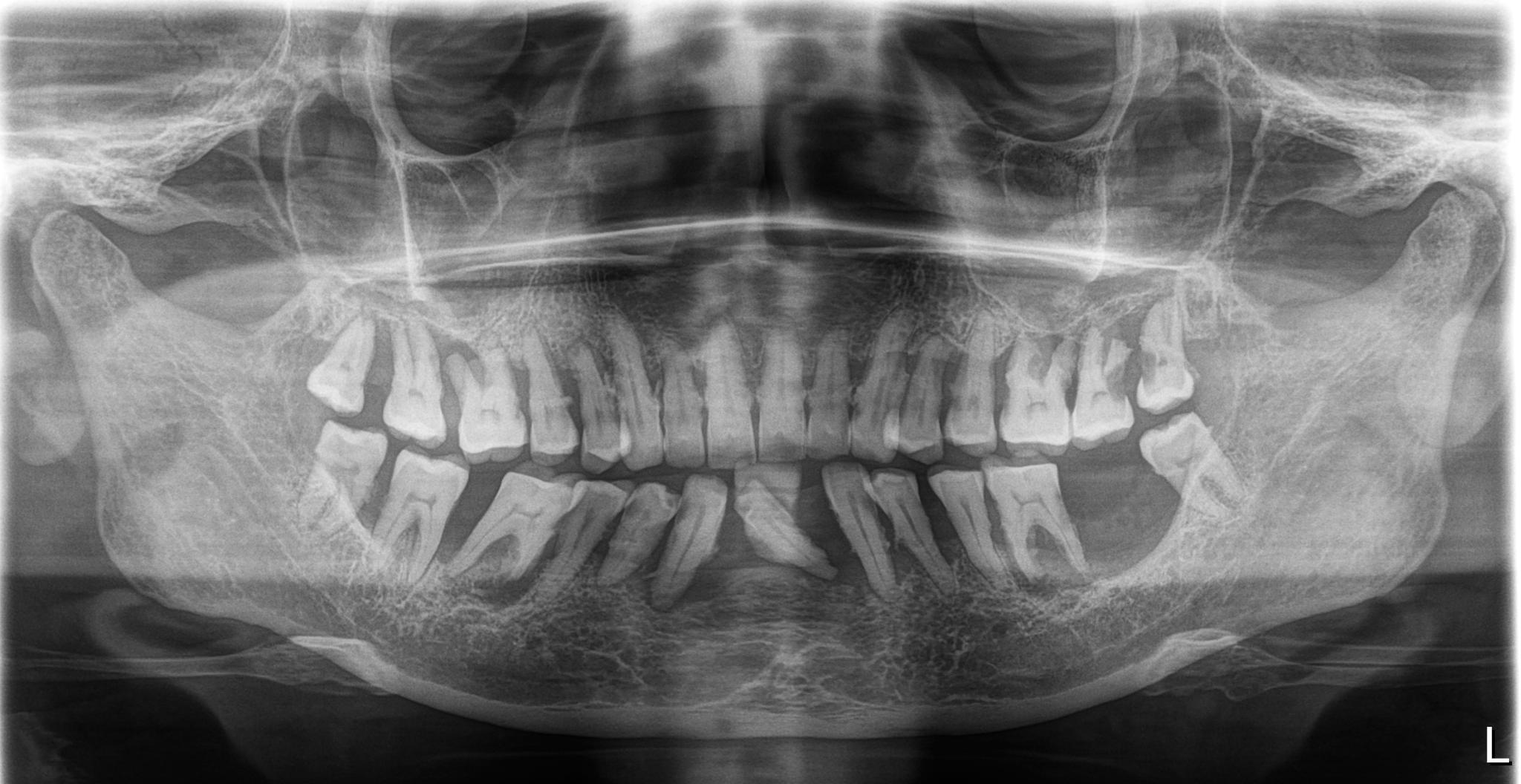Cyst: (1077, 466, 1170, 567)
Dental Caries: (1105, 355, 1158, 391)
Impacted Third Molar: (303, 431, 378, 546), (1140, 429, 1248, 503)
